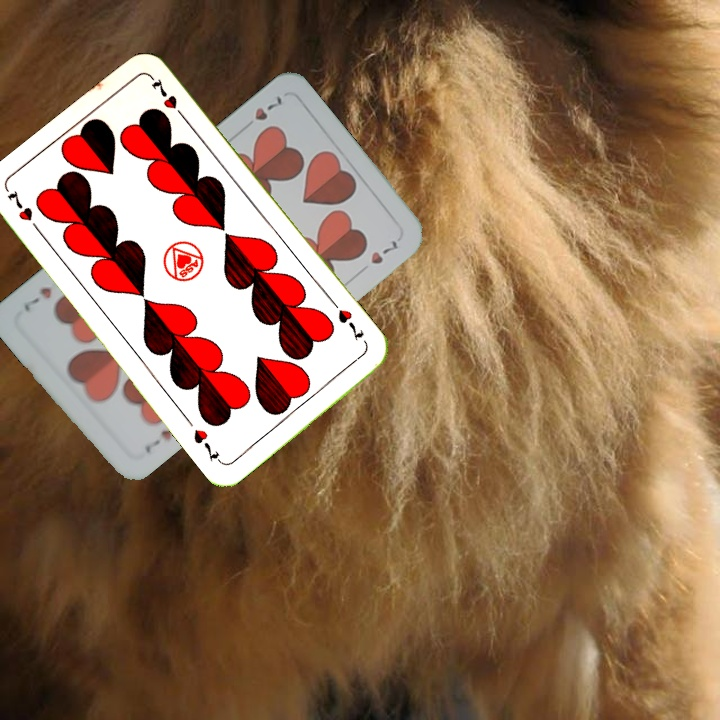H7: (3, 185, 44, 237), (239, 91, 285, 134), (328, 297, 367, 344), (140, 425, 174, 456)
